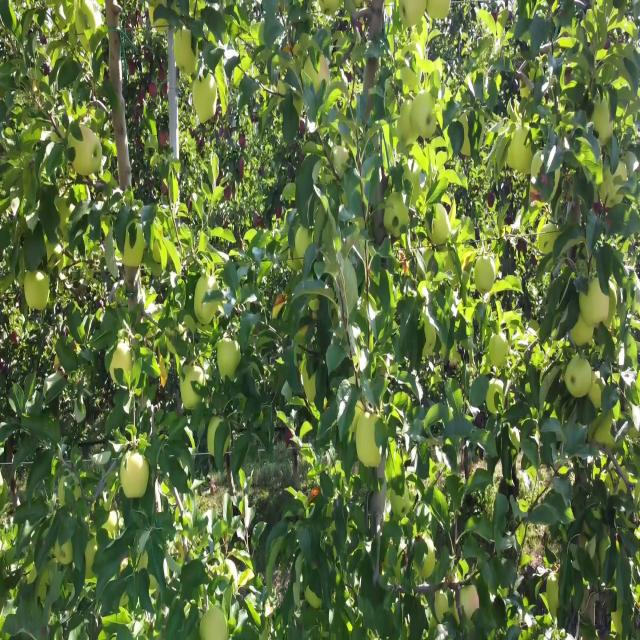apple: (67, 126, 103, 175), (356, 412, 384, 466), (120, 446, 149, 498), (580, 278, 609, 326), (193, 274, 220, 324), (192, 73, 218, 124), (564, 354, 593, 397), (174, 28, 199, 77), (411, 89, 436, 138), (216, 336, 241, 384), (384, 191, 408, 237), (120, 224, 145, 268), (24, 269, 50, 310), (181, 366, 205, 410), (198, 606, 229, 640), (303, 52, 329, 92), (591, 96, 614, 141), (426, 202, 450, 245), (208, 416, 230, 460), (108, 344, 132, 384), (603, 162, 626, 203), (396, 0, 426, 30), (512, 126, 532, 171), (397, 100, 417, 143), (474, 256, 496, 295), (570, 314, 594, 348), (488, 334, 510, 368), (458, 583, 479, 618), (487, 378, 505, 412), (390, 488, 410, 518), (426, 0, 452, 21), (422, 539, 436, 577), (540, 223, 556, 251)
